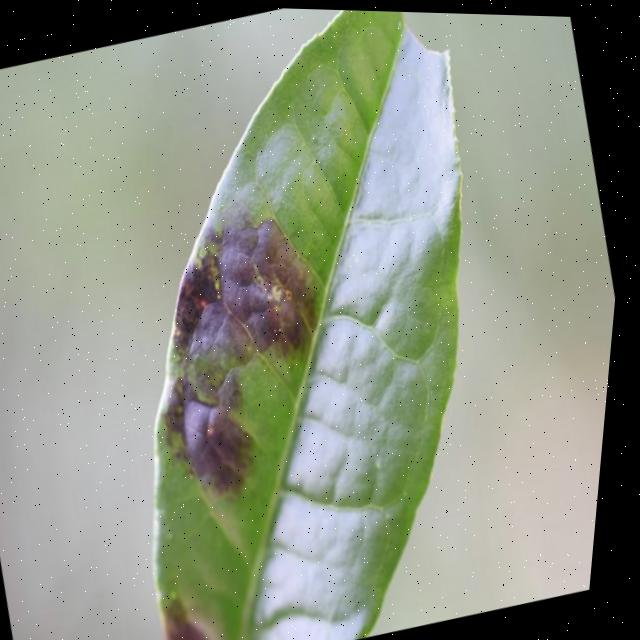Tea exobasidium blight: (117, 197, 361, 496)
